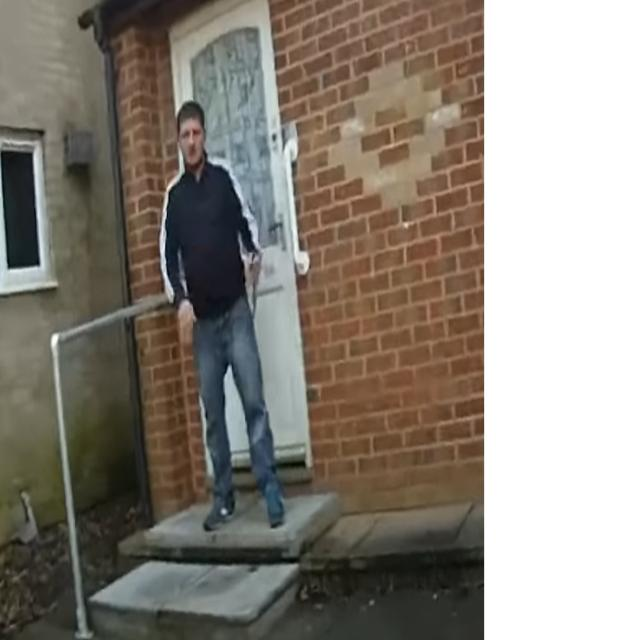Knife_Handle: (245, 249, 261, 316)
